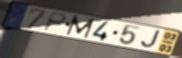4: (90, 20, 111, 43)
5: (119, 23, 142, 46)
7: (26, 6, 48, 30)
J: (139, 30, 161, 50)
M: (65, 15, 96, 39)
P: (41, 12, 68, 33)
